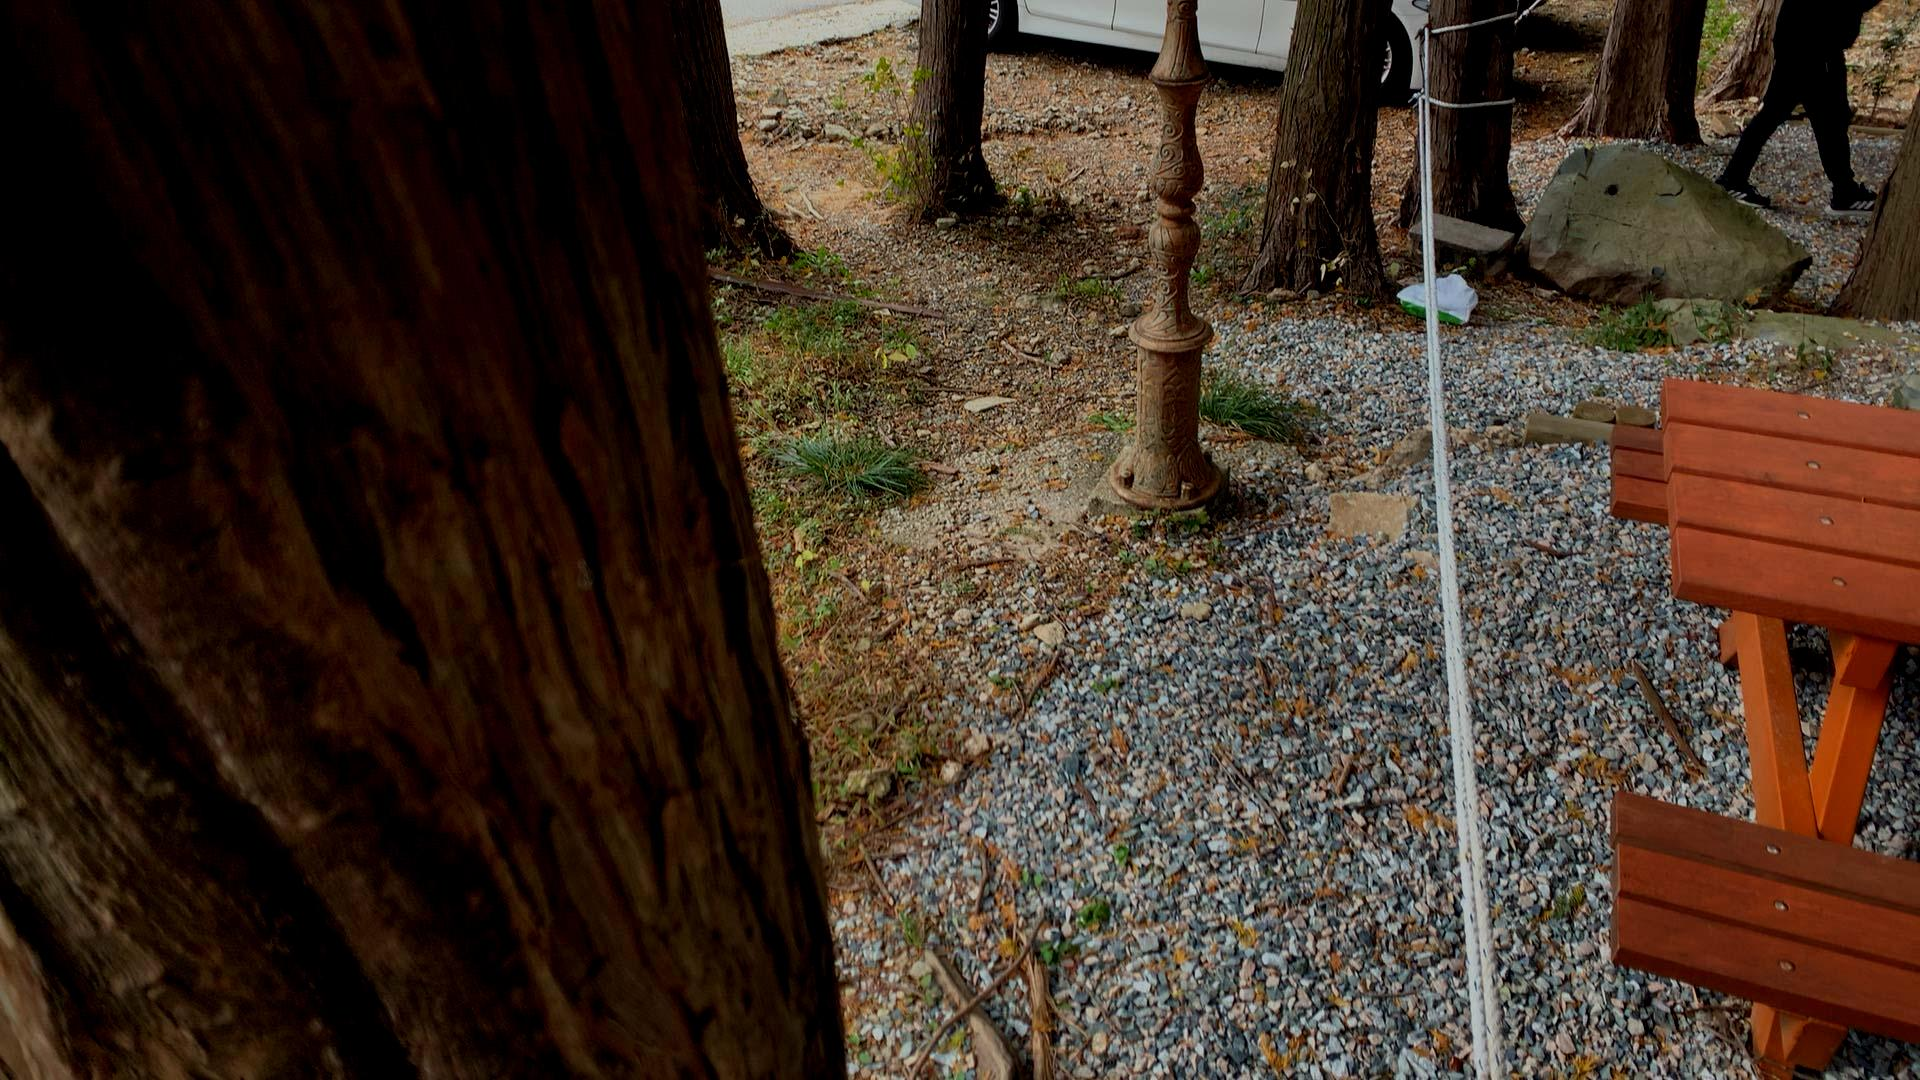white_bag: (1390, 270, 1482, 327)
